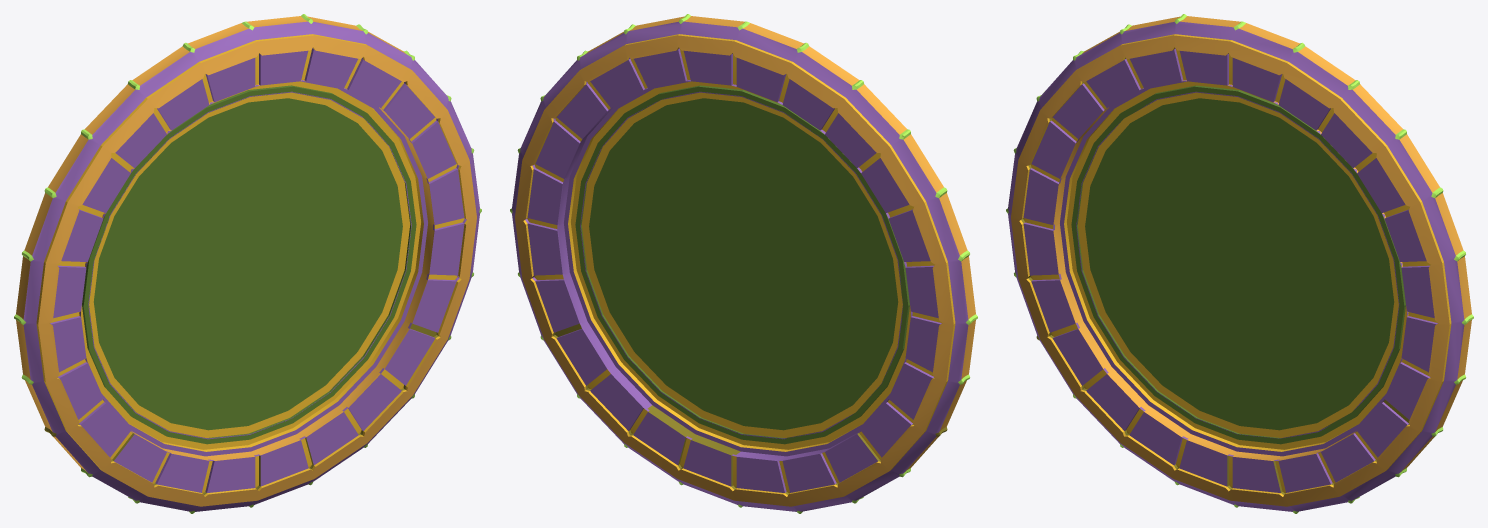
The model's file is game coin.FBX.
3 renders of one model, left to right at view 1: azimuth 30°, elevation 25°; view 2: azimuth 150°, elevation 25°; view 3: azimuth 330°, elevation 25°, orthographic.
Visible parts, largest first — view 1: Torus001; view 2: Torus001; view 3: Torus001.
Part boxes in pixels (left/top/right/bottom): Torus001: left=14, top=14, right=481, bottom=513; Torus001: left=510, top=14, right=977, bottom=513; Torus001: left=1006, top=14, right=1473, bottom=513.
Bounding box in the file's own units: 161 × 160 × 14.02.
